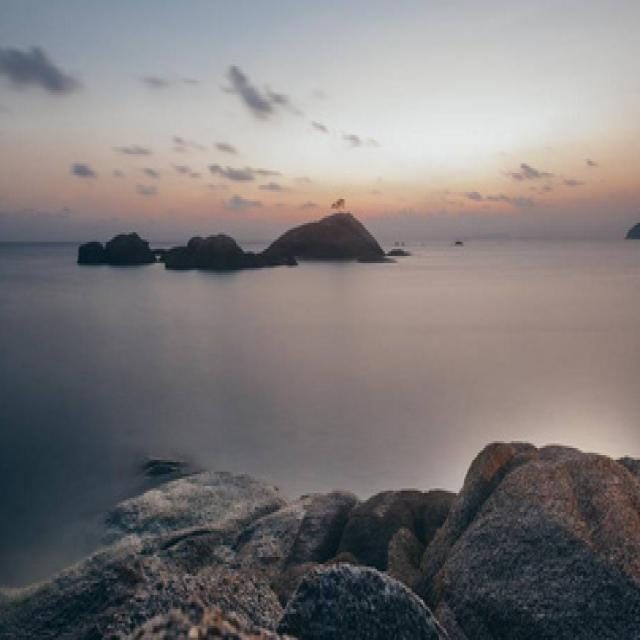island: (84, 190, 410, 280)
